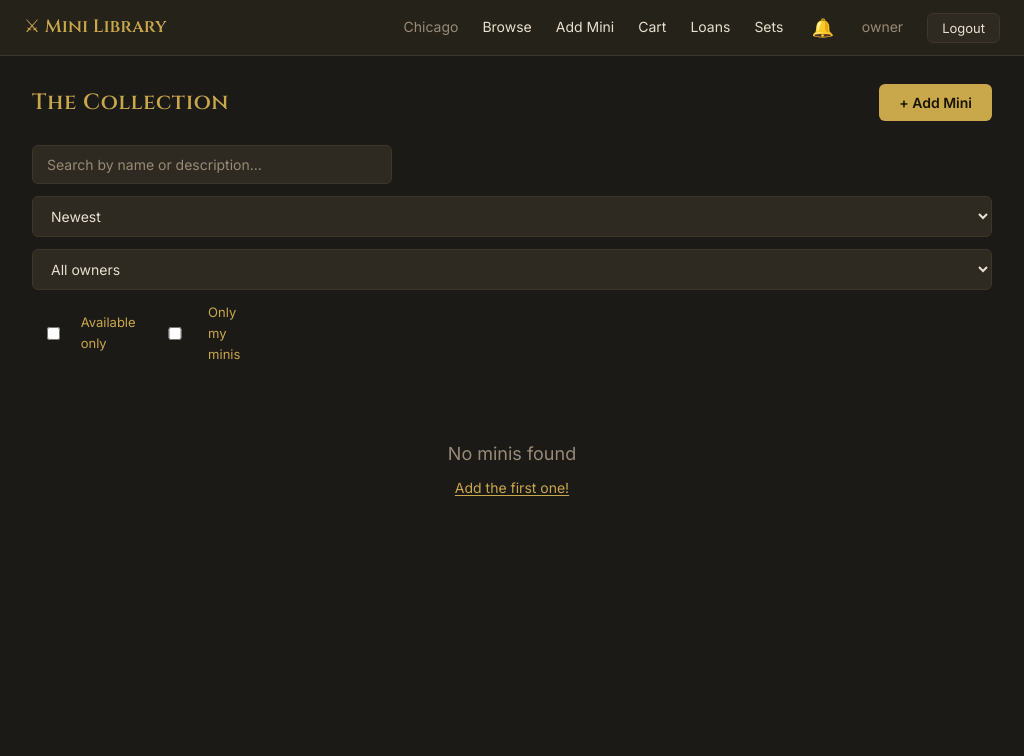
Scenario: App nav — username link › renders the username as a link to the profile page and navigates there on click
Click the link "owner": [882, 28] box [862,16,903,39]
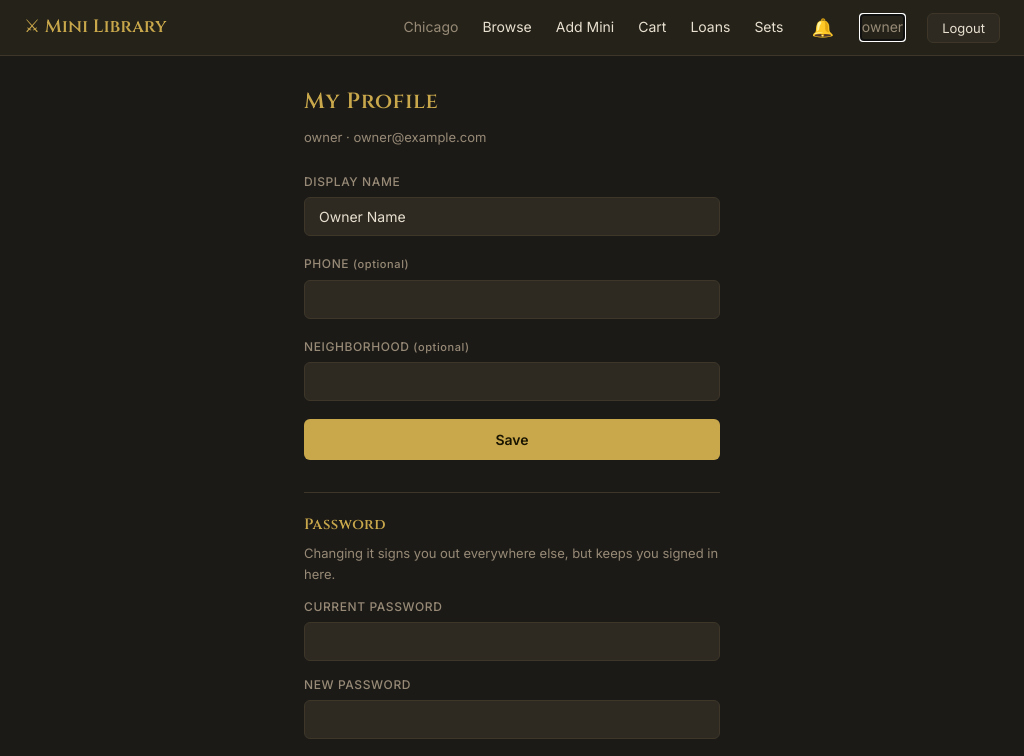
Now the heading "My Profile" is shown, box [304,87,438,116]
